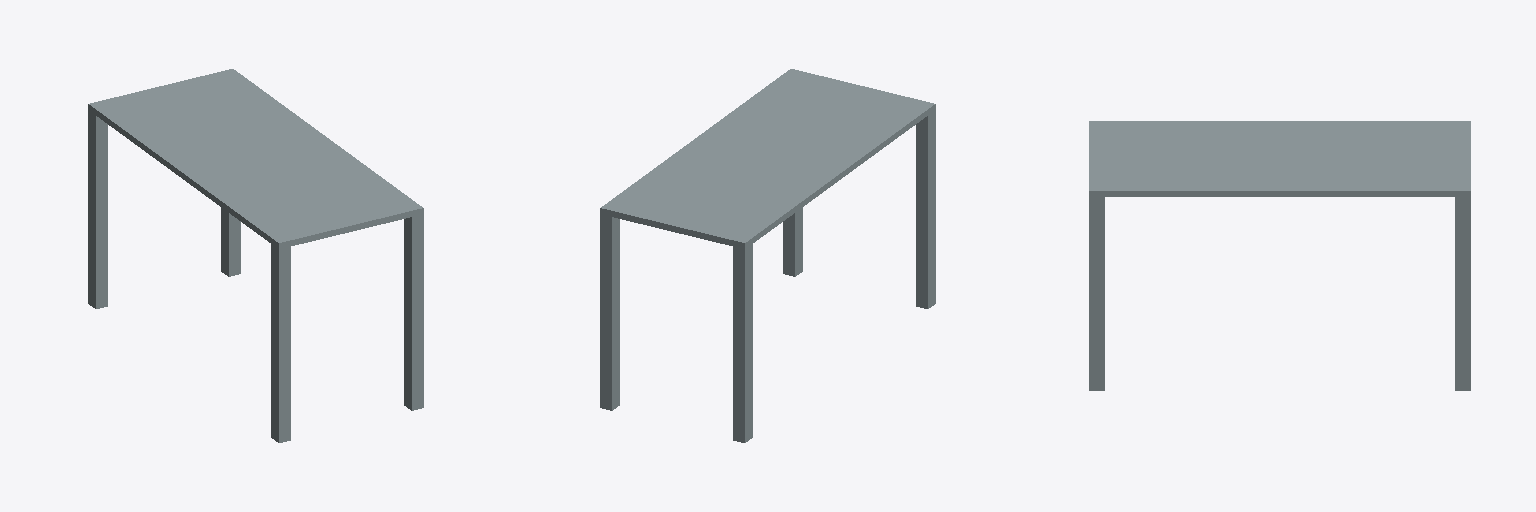
Rendered from Table.obj.
The picture shows the model from 3 angles: view 1: azimuth 30°, elevation 25°; view 2: azimuth 150°, elevation 25°; view 3: azimuth 270°, elevation 25°; orthographic projection.
Visible parts, largest first — view 1: Table; view 2: Table; view 3: Table.
Part boxes in pixels (left/top/right/bottom): Table: left=88, top=69, right=423, bottom=442; Table: left=600, top=69, right=935, bottom=442; Table: left=1089, top=121, right=1470, bottom=390.
Size of the model in its own units: 0.6106 by 0.807 by 1.39.